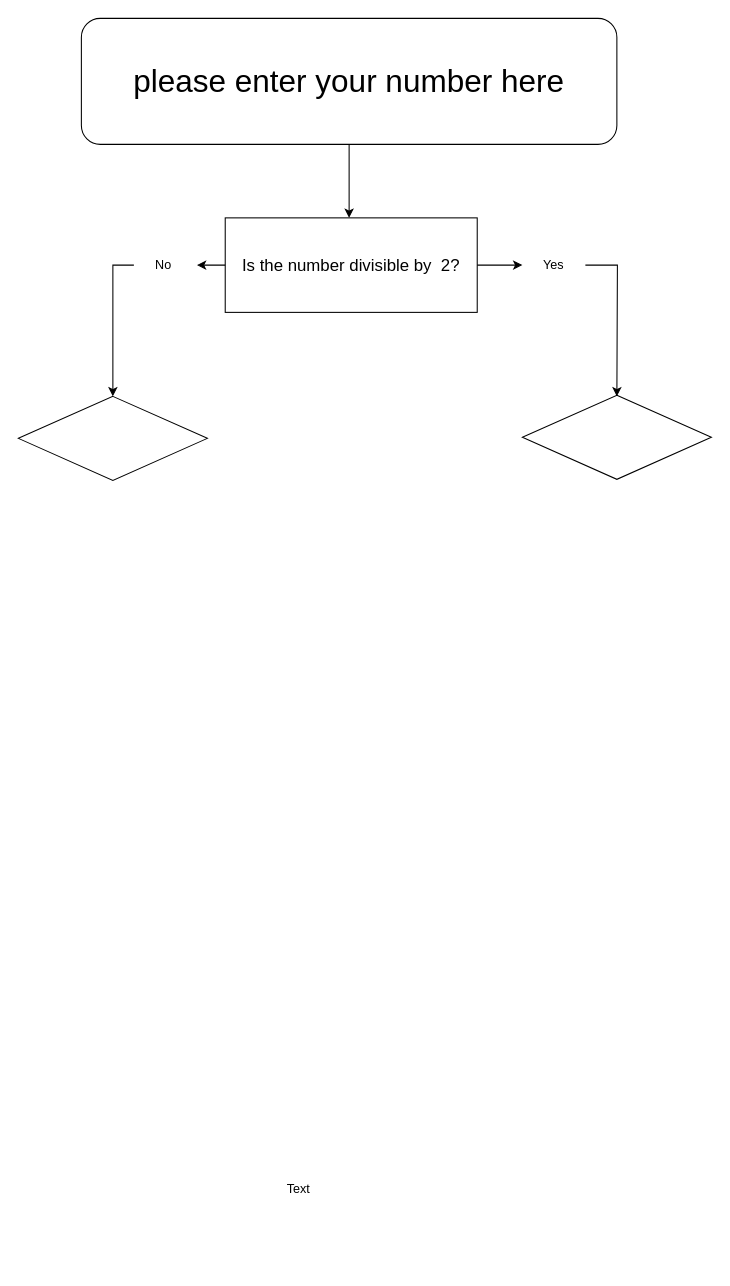
Some shapes in this 730 by 1286 pixel diagram are drawn without their labels. Each missing label, with the box of its shape:
The number is EVEN: (521, 394, 711, 479)
The number is ODD: (17, 395, 207, 480)
